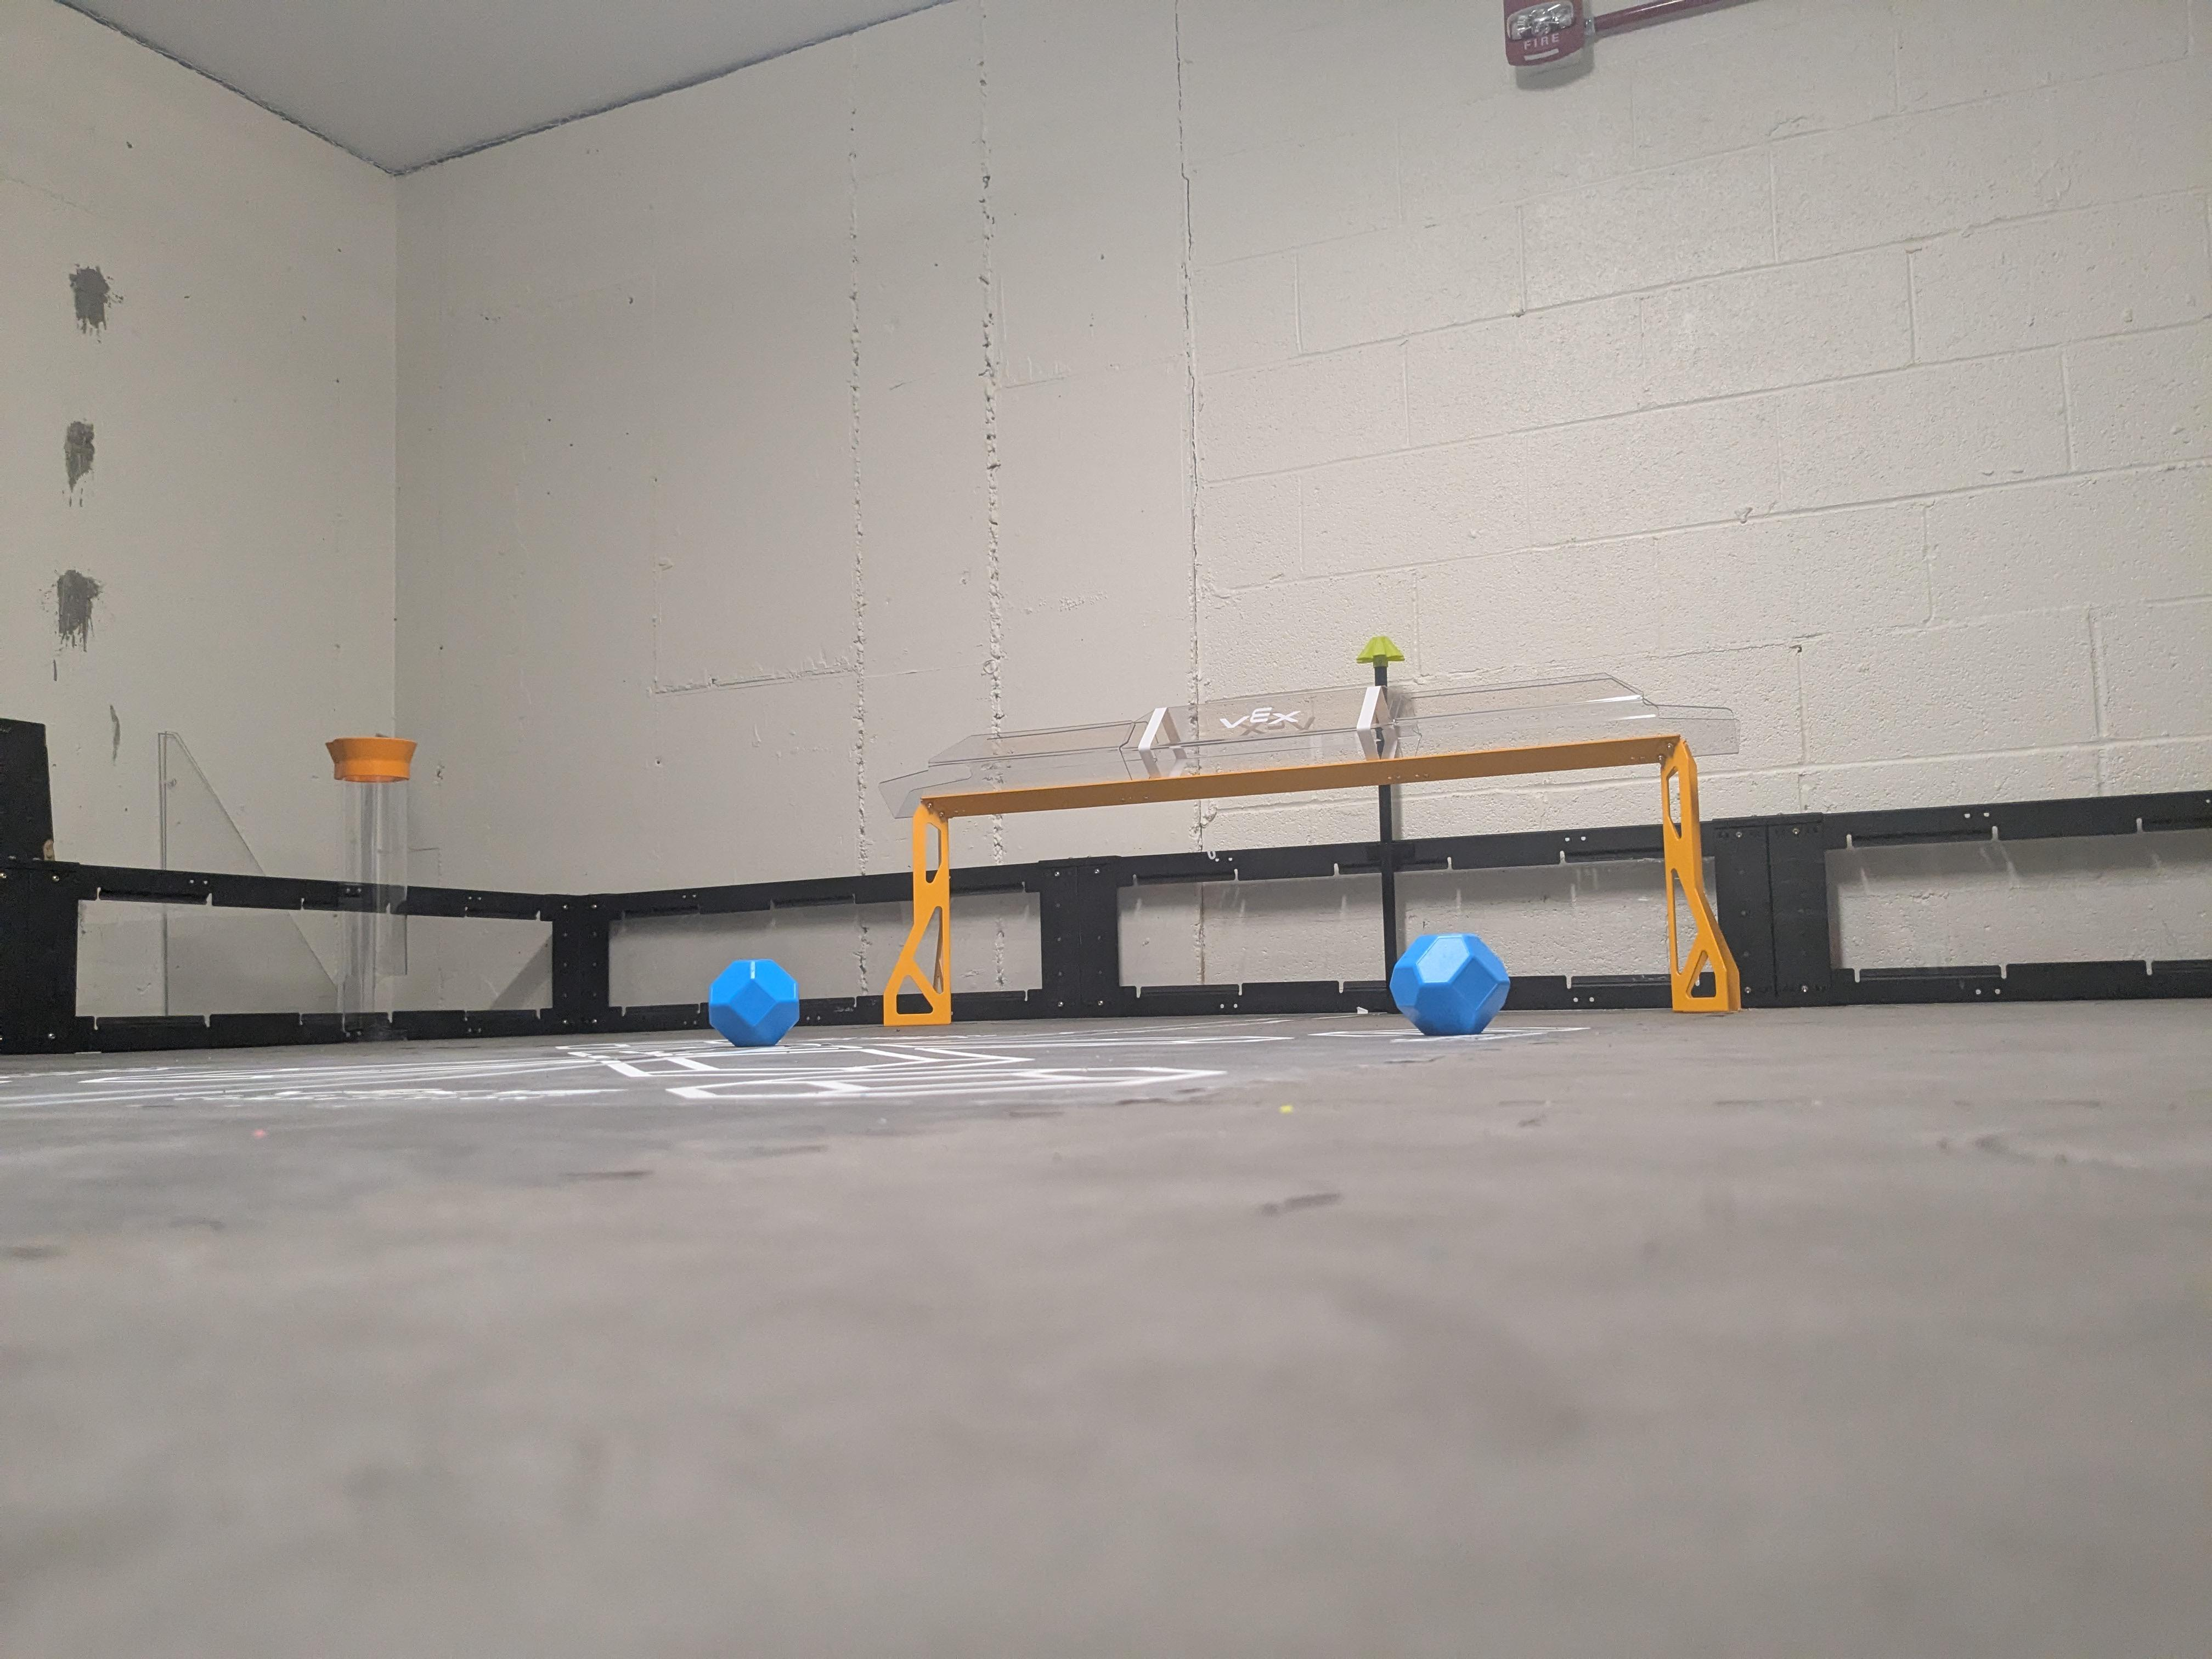Vex-Pieces-BLUE: (1392, 934, 1507, 1033), (704, 962, 798, 1044)
